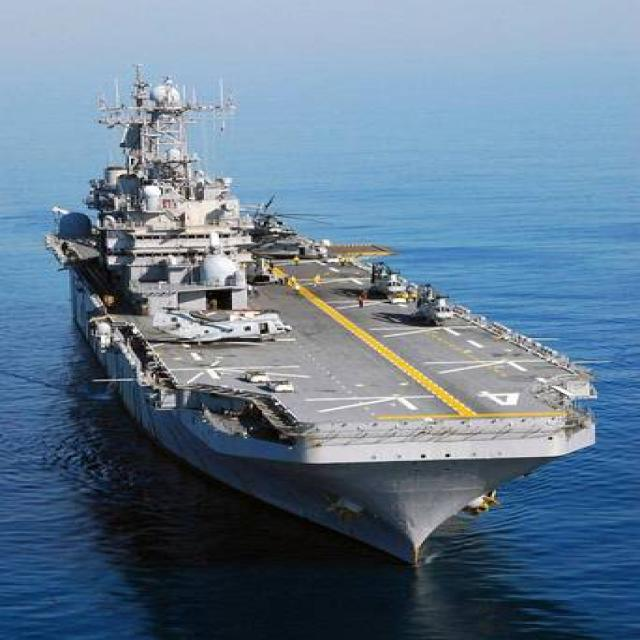navalvessels: (62, 68, 564, 552)
